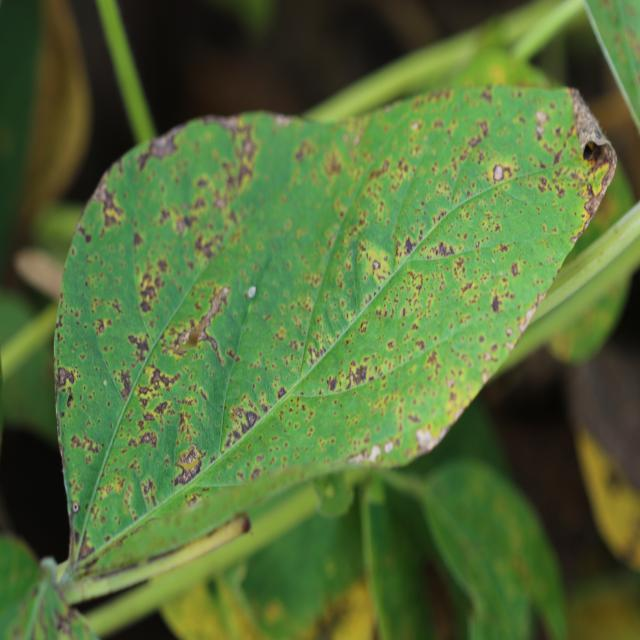Bacterial_Blight: (175, 287, 230, 356), (221, 130, 259, 195), (343, 238, 366, 321), (173, 437, 206, 491), (137, 133, 177, 173), (390, 269, 425, 312), (518, 289, 549, 332), (226, 405, 261, 442), (97, 185, 125, 229), (138, 270, 162, 311), (145, 365, 180, 393), (68, 432, 104, 457), (193, 231, 220, 262), (589, 159, 610, 195), (127, 332, 151, 361), (323, 148, 344, 178), (139, 477, 158, 510), (345, 362, 368, 389), (366, 159, 390, 184), (425, 240, 456, 259), (76, 533, 95, 561), (488, 162, 513, 183), (56, 365, 76, 390), (306, 342, 326, 367), (117, 368, 133, 398), (452, 257, 469, 283), (416, 427, 434, 451), (535, 110, 548, 140), (137, 430, 157, 448), (77, 223, 93, 244), (236, 514, 252, 535), (583, 140, 597, 162), (171, 340, 189, 357), (452, 404, 467, 424), (153, 400, 168, 416), (403, 236, 415, 256), (369, 444, 382, 461), (274, 114, 291, 127), (176, 217, 188, 235), (326, 375, 338, 392), (491, 294, 501, 314), (553, 148, 564, 166), (478, 120, 489, 137), (276, 386, 287, 400), (324, 484, 335, 498), (510, 262, 520, 277), (96, 320, 106, 335), (251, 467, 262, 480), (384, 440, 394, 454), (483, 351, 493, 363), (415, 340, 425, 352), (221, 286, 230, 298), (410, 121, 420, 131), (482, 372, 490, 384), (387, 340, 395, 351), (372, 260, 380, 270), (72, 502, 79, 513), (570, 235, 578, 244), (506, 327, 513, 337), (103, 378, 108, 387), (491, 257, 495, 264)
Soybean: (54, 86, 616, 599)
